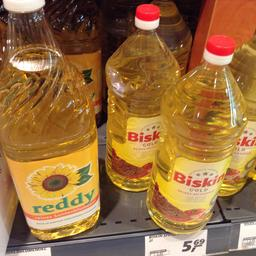oil: (0, 0, 101, 242), (144, 34, 247, 236), (102, 2, 180, 191)
